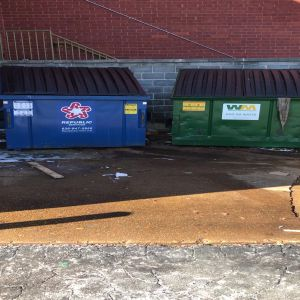Dumpster: (1, 66, 153, 149), (168, 66, 300, 147)
